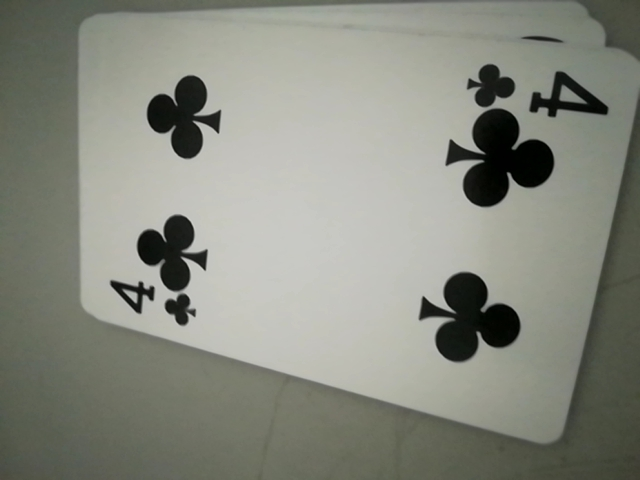mh 4: (465, 51, 608, 124), (101, 276, 202, 333)
